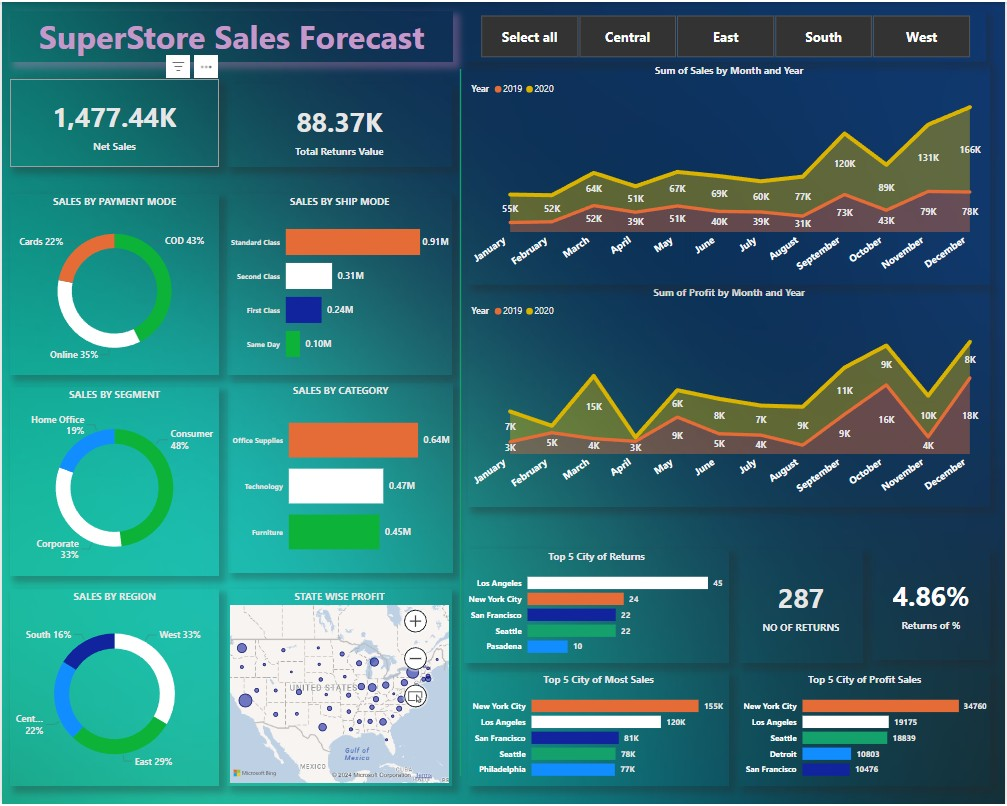

Layout of this report page (visuals, bound fields, positions):
{"tool":"powerbi","page":{"name":"Page 1","canvas":[1500,1200],"ordinal":0},"visuals":[{"type":"textbox","box":[11.4,14,663.2,76.2],"z":0},{"type":"donutChart","title":"SALES BY PAYMENT MODE","fields":{"Category":["Sheet1.Payment Mode"],"Y":["Sum(Sheet1.Sales)"]},"box":[12,287.3,312.7,270.8],"z":2000},{"type":"donutChart","title":"SALES BY SEGMENT","fields":{"Category":["Sheet1.Segment"],"Y":["Sum(Sheet1.Sales)"]},"box":[12,576.1,312.7,282.8],"z":3000},{"type":"donutChart","title":"SALES BY REGION","fields":{"Category":["Sheet1.Region"],"Y":["Sum(Sheet1.Sales)"]},"box":[12,878.3,312.7,294.8],"z":3001},{"type":"slicer","fields":{"Values":["Sheet1.Region"]},"box":[691.3,13.5,781,76.3],"z":3003},{"type":"barChart","title":"SALES BY SHIP MODE","fields":{"Category":["Sheet1.Ship Mode"],"Y":["Sum(Sheet1.Sales)"]},"box":[336.7,287.3,336.7,270.8],"z":3004},{"type":"barChart","title":"SALES BY CATEGORY","fields":{"Category":["Sheet1.Category"],"Y":["Sum(Sheet1.Sales)"]},"box":[338.2,570.1,336.7,284.3],"z":3005},{"type":"map","title":"STATE WISE PROFIT","fields":{"Category":["Sheet1.State"],"Size":["Sum(Sheet1.Profit)"]},"box":[336.7,878.3,336.7,294.8],"z":3006},{"type":"cardVisual","fields":{"Data":["Key Measures.NO OF RETURNS"]},"box":[1102.7,818.5,185.5,170.6],"z":3007},{"type":"cardVisual","fields":{"Data":["Key Measures.Total Retunrs Value"]},"box":[336.7,122.7,336.7,124.2],"z":3008},{"type":"shape","box":[674.8,100.2,22.4,1057.9],"z":3009},{"type":"cardVisual","fields":{"Data":["Key Measures.Net Sales"]},"box":[12,115.2,312.7,131.7],"z":3010},{"type":"cardVisual","fields":{"Data":["Key Measures.Returns%"]},"box":[1301.7,818.5,176.6,166.1],"z":3011},{"type":"barChart","title":"Top 5 City of Most Sales","fields":{"Y":["Sum(Sheet1.Sales)"],"Category":["Sheet1.City"]},"box":[697.3,1002.5,390.5,170.6],"z":3012},{"type":"barChart","title":"Top 5 City of Returns","fields":{"Y":["Key Measures.NO OF RETURNS"],"Category":["Sheet1.City"]},"box":[691.3,818.5,396.5,170.6],"z":3013},{"type":"barChart","title":"Top 5 City of Profit Sales","fields":{"Y":["Sum(Sheet1.Profit)"],"Category":["Sheet1.City"]},"box":[1102.7,1002.5,375.6,170.6],"z":3014},{"type":"stackedAreaChart","fields":{"Y":["Sum(Sheet1.Profit)"],"Category":["Sheet1.Order Date.Variation.Date Hierarchy.Month"],"Series":["Sheet1.Order Date.Variation.Date Hierarchy.Year"]},"box":[697.3,423.4,781,332.2],"z":3015},{"type":"stackedAreaChart","fields":{"Y":["Sum(Sheet1.Sales)"],"Category":["Sheet1.Order Date.Variation.Date Hierarchy.Month"],"Series":["Sheet1.Order Date.Variation.Date Hierarchy.Year"]},"box":[697.3,91.3,781,332.2],"z":3016}]}

Visuals, with their boxes in screenshot pixels (x1, y1, x2, y2), scaled from the page's 1500x1200 canvas onto the 1007x806 screenshot:
textbox: <box>8,9,453,61</box>
"SALES BY PAYMENT MODE" donutChart: <box>8,193,218,375</box>
"SALES BY SEGMENT" donutChart: <box>8,387,218,577</box>
"SALES BY REGION" donutChart: <box>8,590,218,788</box>
slicer - Sheet1.Region: <box>464,9,988,60</box>
"SALES BY SHIP MODE" barChart: <box>226,193,452,375</box>
"SALES BY CATEGORY" barChart: <box>227,383,453,574</box>
"STATE WISE PROFIT" map: <box>226,590,452,788</box>
cardVisual - Key Measures.NO OF RETURNS: <box>740,550,865,664</box>
cardVisual - Key Measures.Total Retunrs Value: <box>226,82,452,166</box>
shape: <box>453,67,468,778</box>
cardVisual - Key Measures.Net Sales: <box>8,77,218,166</box>
cardVisual - Key Measures.Returns%: <box>874,550,992,661</box>
"Top 5 City of Most Sales" barChart: <box>468,673,730,788</box>
"Top 5 City of Returns" barChart: <box>464,550,730,664</box>
"Top 5 City of Profit Sales" barChart: <box>740,673,992,788</box>
stackedAreaChart - Sum(Sheet1.Profit) x Sheet1.Order Date.Variation.Date Hierarchy.Month: <box>468,284,992,508</box>
stackedAreaChart - Sum(Sheet1.Sales) x Sheet1.Order Date.Variation.Date Hierarchy.Month: <box>468,61,992,284</box>
